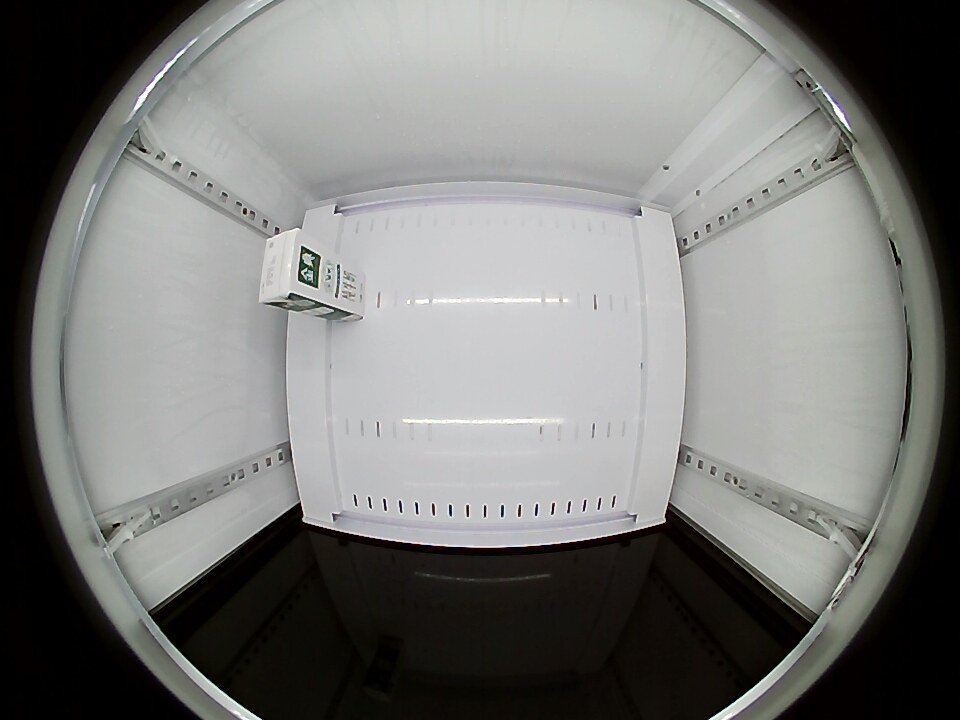jindian: (259, 227, 326, 310)
